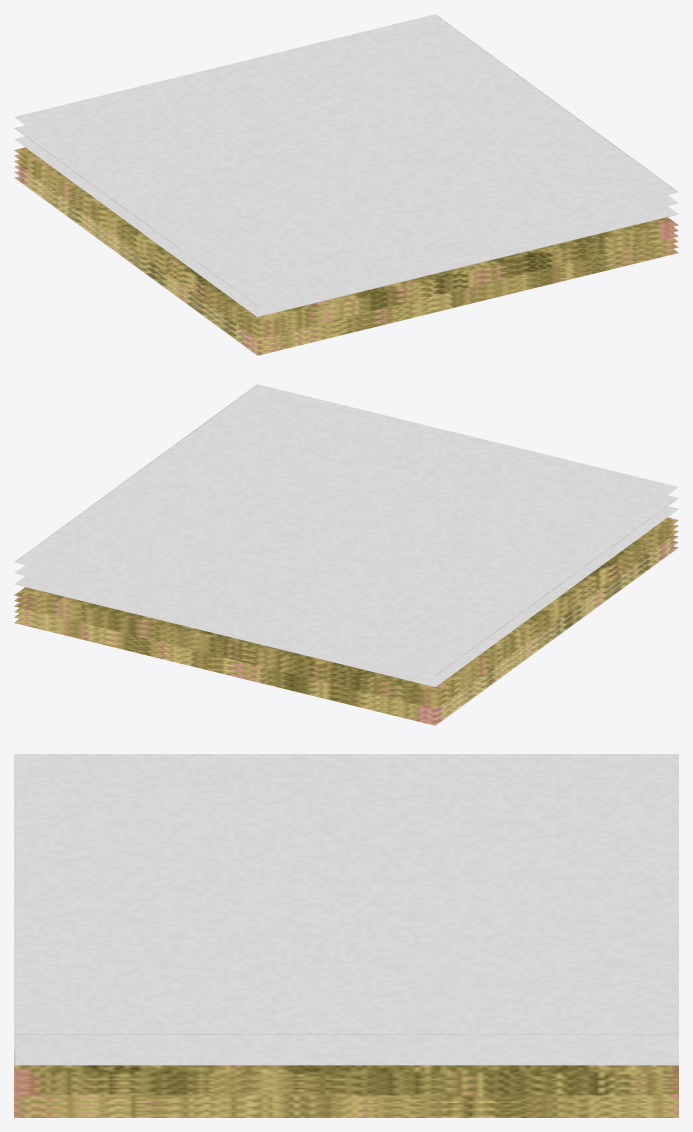
The model's file is wollegras.fbx.
The picture shows the model from 3 angles, top to bottom: view 1: azimuth 30°, elevation 25°; view 2: azimuth 150°, elevation 25°; view 3: azimuth 270°, elevation 25°; orthographic projection. The views are drawn at different scales.
Visible parts, largest first — view 1: wollegras; view 2: wollegras; view 3: wollegras.
Boxes of the visible parts, box(x1,y1,x2,y2) form: wollegras: box(14, 14, 678, 355); wollegras: box(14, 384, 678, 725); wollegras: box(14, 754, 678, 1117).
Bounding box in the file's own units: 1020 × 140 × 1020.
